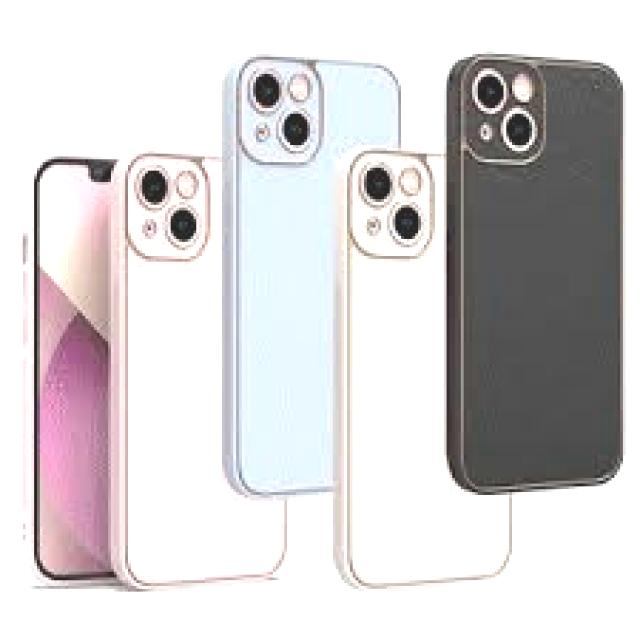lens: (241, 55, 322, 167), (128, 154, 208, 259), (354, 155, 436, 253), (468, 60, 546, 163)
phone: (449, 56, 629, 496), (334, 148, 449, 606), (220, 46, 334, 498), (114, 145, 224, 590), (20, 155, 108, 586)
